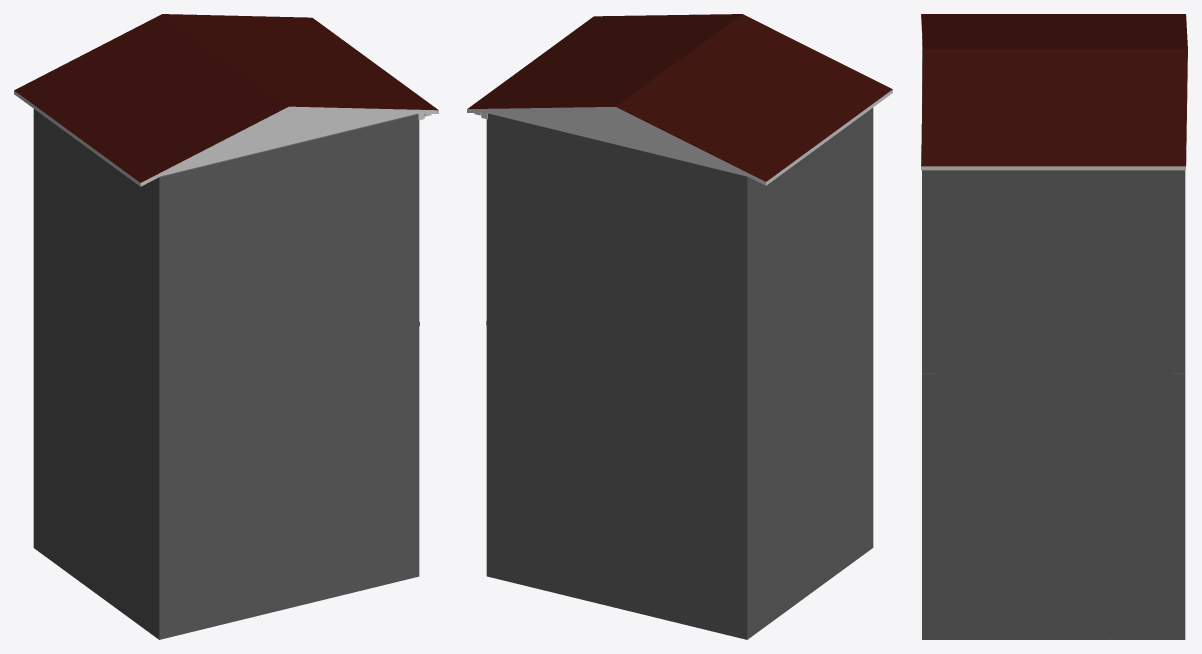
File: MaisonBaseSansFenêtrePoulie.glb
3 views of the same model, side by side, from view 1: azimuth 30°, elevation 25°; view 2: azimuth 150°, elevation 25°; view 3: azimuth 270°, elevation 25° (orthographic). The views are drawn at different scales.
Parts seen in each view (by area): view 1: Maison, Toit; view 2: Maison, Toit; view 3: Maison, Toit, Emplacementporte, EmplacementFenêtreGB, EmplacementFenêtreGH, EmplacementFenêtreDB, EmplacementFenêtreDH.
Boxes of the visible parts, <box> form: Maison: <box>33,109,419,639</box>; Toit: <box>14,14,438,186</box>; Maison: <box>486,108,873,639</box>; Toit: <box>467,14,892,185</box>; Maison: <box>922,37,1185,639</box>; Toit: <box>921,14,1187,170</box>; Emplacementporte: <box>995,471,1111,639</box>; EmplacementFenêtreGB: <box>934,349,1009,444</box>; EmplacementFenêtreGH: <box>934,196,1009,290</box>; EmplacementFenêtreDB: <box>1098,349,1171,444</box>; EmplacementFenêtreDH: <box>1098,196,1171,290</box>.
Bounding box in the file's own units: 5.74 × 9.22 × 4.25.
